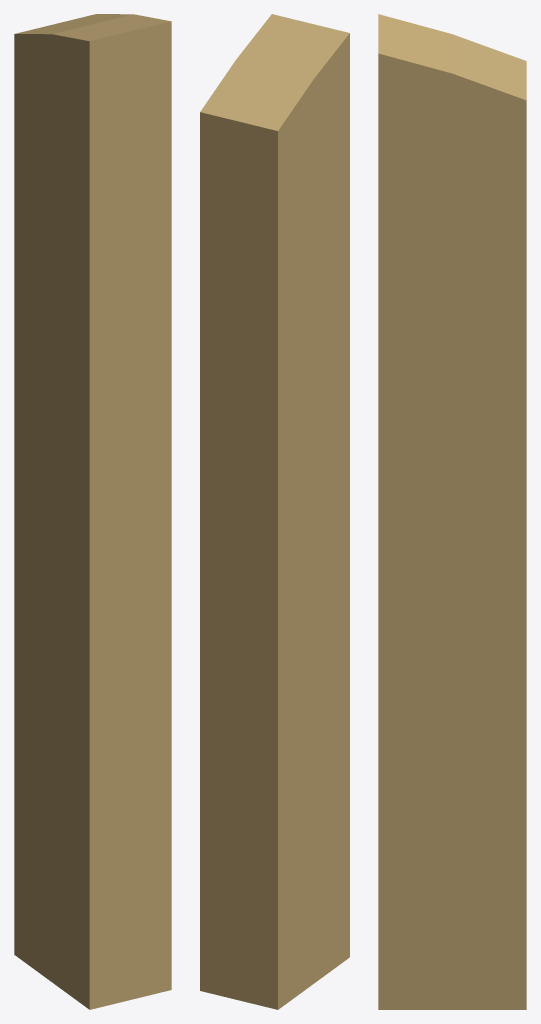
3 views of the same model, side by side, from view 1: azimuth 30°, elevation 25°; view 2: azimuth 150°, elevation 25°; view 3: azimuth 270°, elevation 25° (orthographic). The views are drawn at different scales.
Parts seen in each view (by area): view 1: L1-3-S7-323-M08; view 2: L1-3-S7-323-M08; view 3: L1-3-S7-323-M08.
Part boxes in pixels (bbox=[...]): L1-3-S7-323-M08: bbox=[14, 14, 171, 1009]; L1-3-S7-323-M08: bbox=[200, 14, 349, 1009]; L1-3-S7-323-M08: bbox=[378, 14, 526, 1009].
Size of the model in its own units: 0.045 by 0.5093 by 0.0717.
